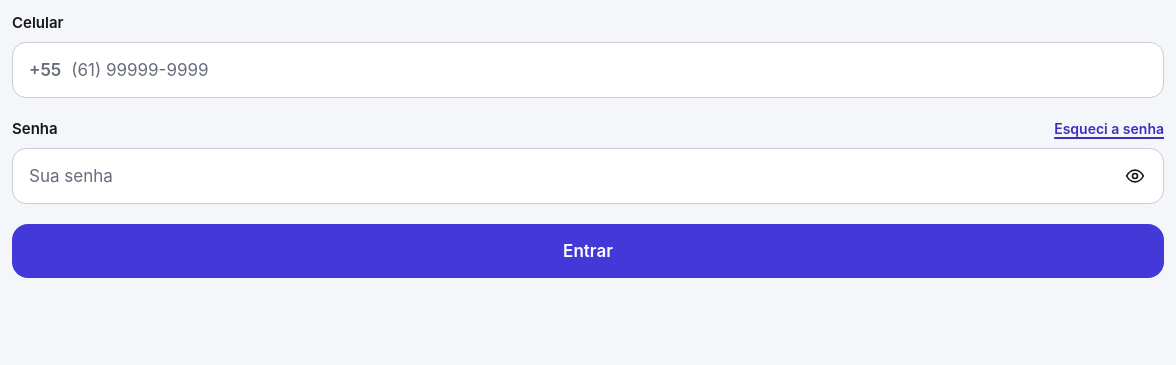
Test: LoginForm, as a person signs in › a wrong password shows the API's words, and typing again tries again
Type "61999990001" into the field labelled "Celular" at (609, 70), box [71, 44, 1147, 96]
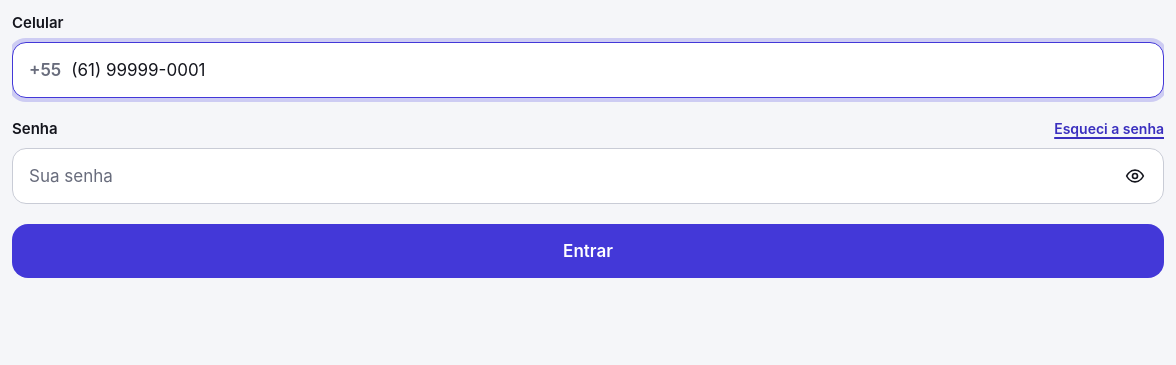
Type "errada" into the password field labelled "Senha" at (566, 176), box [29, 150, 1103, 202]
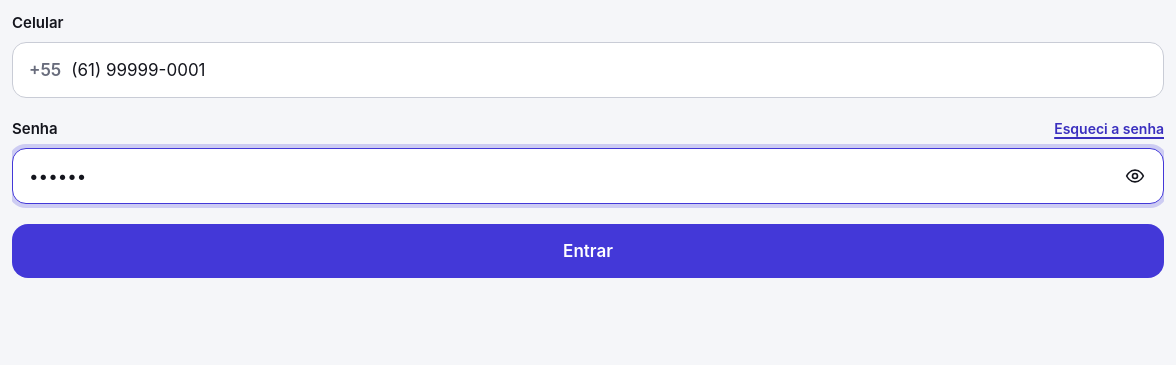
Click the button "Entrar" at (588, 251), box [12, 224, 1164, 278]
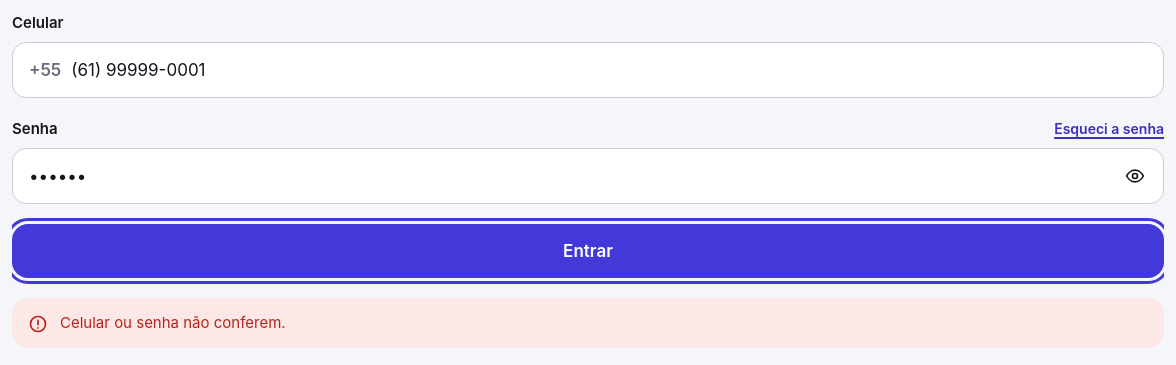
Check: the message reads "Celular ou senha não conferem.", box [60, 313, 286, 332]
Type "certa12345" into the password field labelled "Senha" at (566, 176), box [29, 150, 1103, 202]
Then press Enter
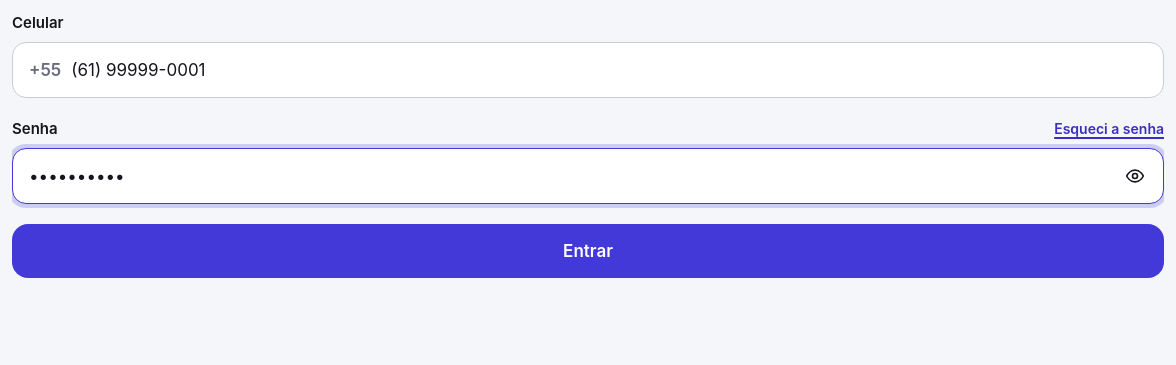
Check: the message "Celular ou senha não conferem." is gone
